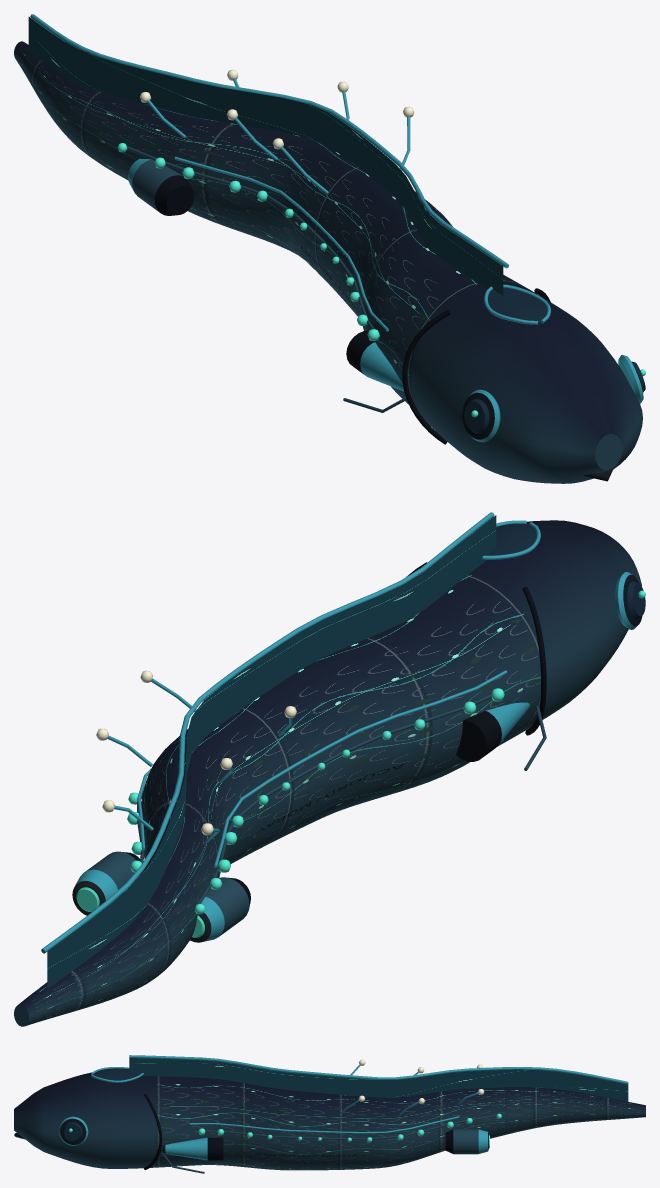
The picture shows the model from 3 angles, top to bottom: view 1: azimuth 30°, elevation 25°; view 2: azimuth 150°, elevation 25°; view 3: azimuth 270°, elevation 25°; orthographic projection. The views are drawn at different scales.
Visible parts, largest first — view 1: moray_hull; view 2: moray_hull; view 3: moray_hull.
Boxes of the visible parts, x1=… form: moray_hull: x1=14, y1=14, x2=645, y2=483; moray_hull: x1=14, y1=512, x2=645, y2=1026; moray_hull: x1=14, y1=1055, x2=645, y2=1173.
Bounding box in the file's own units: 9.13 × 7.97 × 42.
1 material, 1 textured.
